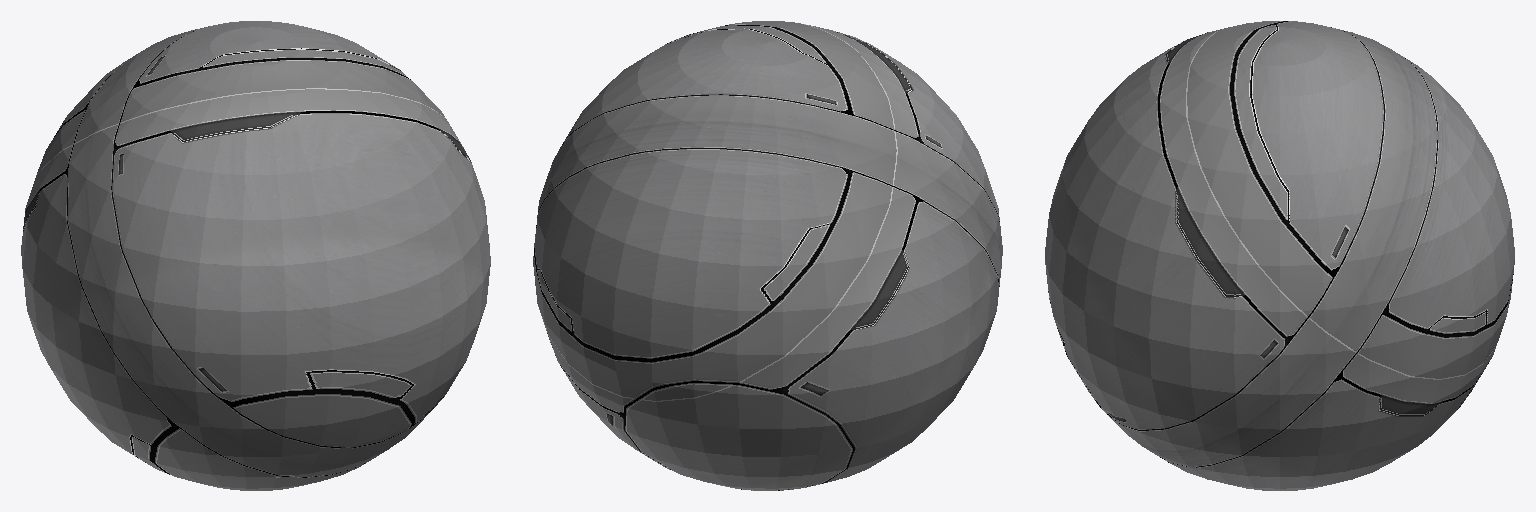
3 views of the same model, side by side, from view 1: azimuth 30°, elevation 25°; view 2: azimuth 150°, elevation 25°; view 3: azimuth 270°, elevation 25° (orthographic).
Parts seen in each view (by area): view 1: Sphere001; view 2: Sphere001; view 3: Sphere001.
Part boxes in pixels (x1,y1,x2,y2): Sphere001: (21, 21, 490, 490); Sphere001: (533, 21, 1002, 490); Sphere001: (1045, 21, 1514, 490).
Bounding box in the file's own units: 6.9 × 6.9 × 6.9.
1 materials, 1 textured.